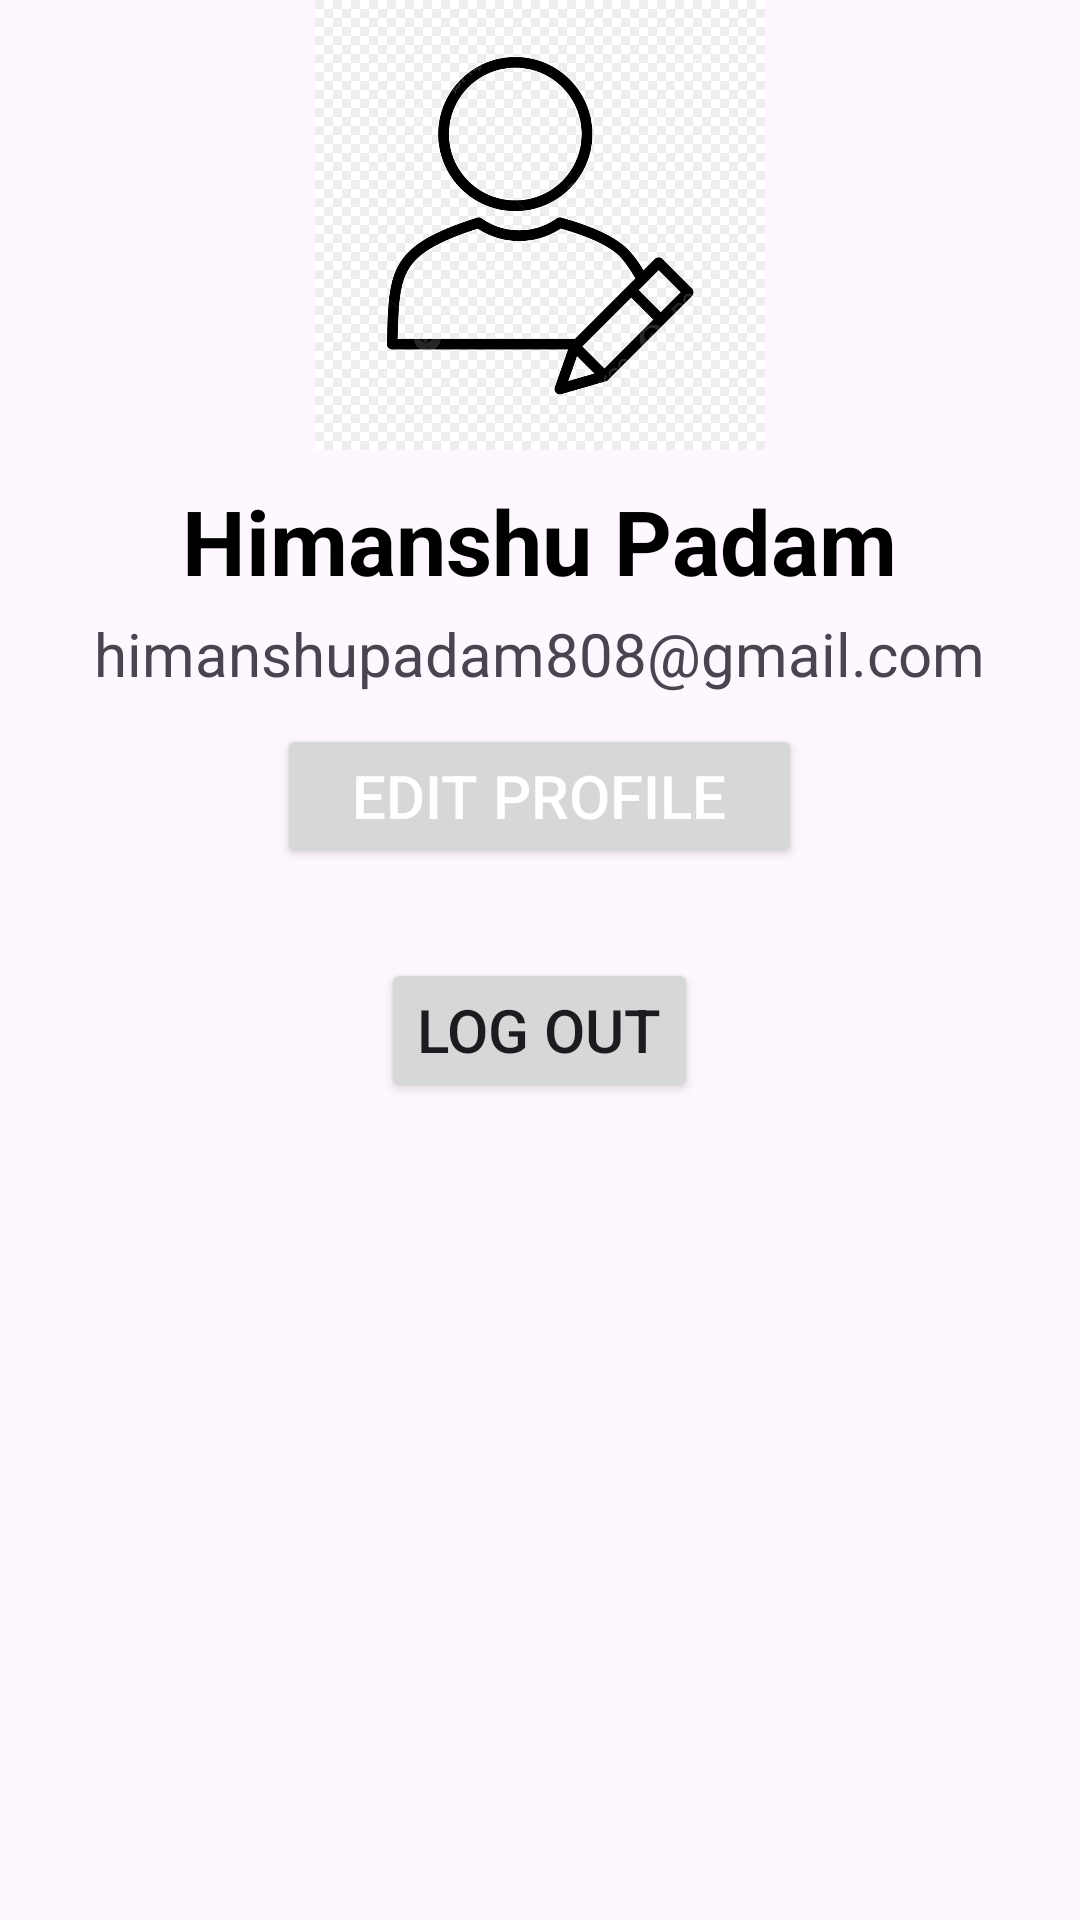

Icons on this 1080 x 1920 Android screen, each with the point to tap as (x=x, y=y):
Profile Pic: (x=540, y=226)
